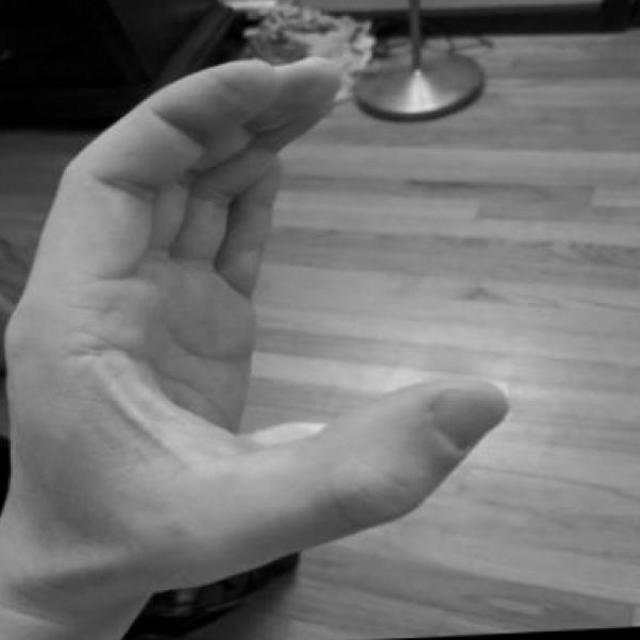C: (0, 46, 522, 585)
